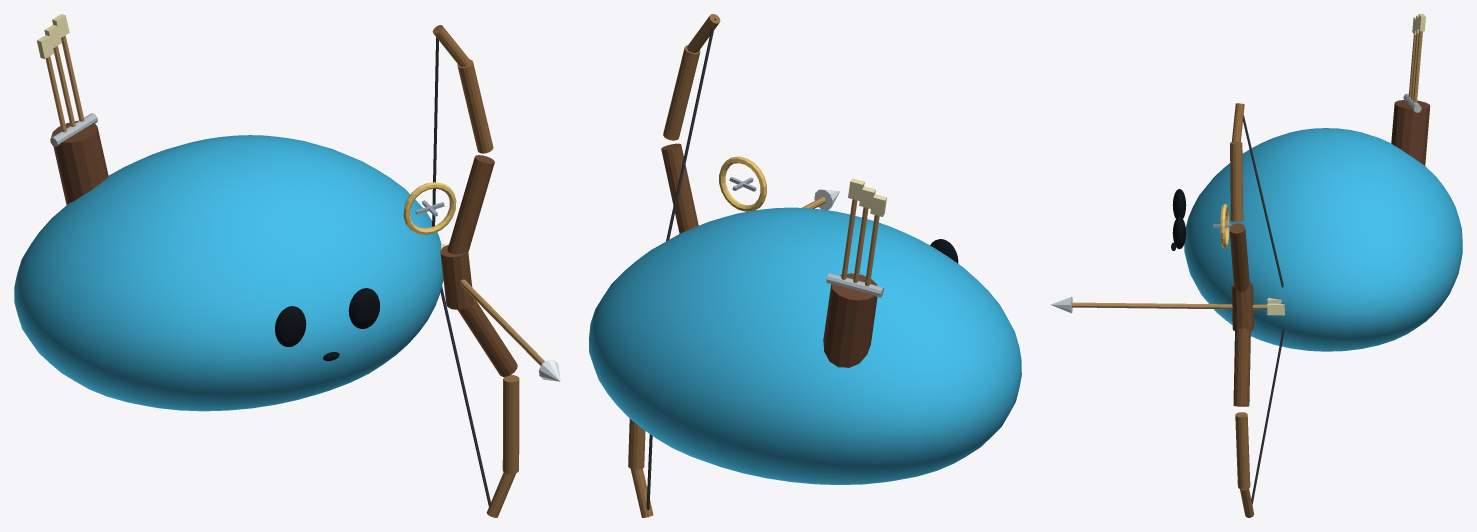
Rendered from sniper-slime.glb.
3 views of the same model, side by side, from view 1: azimuth 30°, elevation 25°; view 2: azimuth 150°, elevation 25°; view 3: azimuth 270°, elevation 25° (orthographic). The views are drawn at different scales.
Visible parts, largest first — view 1: Body, Sniper_QuiverBody, SniperBow_UpperInner, SniperBow_LowerInner, SniperBow_LowerOuter, SniperBow_Grip, SniperBow_UpperOuter, SniperSight_Ring, Eye_L, Eye_R, Sniper_ArrowShaft, SniperBow_StringLower (+2 smaller); view 2: Body, Sniper_QuiverBody, SniperBow_UpperInner, SniperBow_UpperOuter, SniperSight_Ring, SniperBow_StringUpper, SniperBow_LowerOuter, SniperBow_LowerTip, Sniper_QuiverRim, SniperBow_UpperTip; view 3: Body, Sniper_QuiverBody, SniperBow_LowerInner, SniperBow_UpperInner, SniperBow_UpperOuter, SniperBow_LowerOuter, Sniper_ArrowShaft, SniperBow_Grip, SniperBow_StringLower, SniperBow_StringUpper.
Boxes of the visible parts, x1,y1,x2,y2 form: Body: [14, 135, 443, 411]; Sniper_QuiverBody: [51, 120, 108, 204]; SniperBow_UpperInner: [447, 155, 494, 254]; SniperBow_LowerInner: [458, 298, 517, 376]; SniperBow_LowerOuter: [502, 375, 519, 473]; SniperBow_Grip: [440, 244, 473, 309]; SniperBow_UpperOuter: [457, 59, 493, 153]; SniperSight_Ring: [403, 182, 456, 234]; Eye_L: [275, 306, 306, 347]; Eye_R: [348, 288, 380, 328]; Sniper_ArrowShaft: [459, 279, 545, 365]; SniperBow_StringLower: [440, 286, 490, 506]; Body: [589, 207, 1021, 484]; Sniper_QuiverBody: [823, 273, 877, 367]; SniperBow_UpperInner: [661, 143, 698, 233]; SniperBow_UpperOuter: [663, 45, 700, 140]; SniperSight_Ring: [719, 156, 766, 211]; SniperBow_StringUpper: [666, 18, 716, 241]; SniperBow_LowerOuter: [628, 419, 645, 469]; SniperBow_LowerTip: [630, 468, 653, 517]; Sniper_QuiverRim: [826, 273, 883, 297]; SniperBow_UpperTip: [687, 14, 720, 52]; Body: [1184, 128, 1462, 351]; Sniper_QuiverBody: [1391, 100, 1430, 165]; SniperBow_LowerInner: [1233, 328, 1250, 406]; SniperBow_UpperInner: [1229, 223, 1249, 291]; SniperBow_UpperOuter: [1230, 142, 1243, 221]; SniperBow_LowerOuter: [1235, 412, 1250, 489]; Sniper_ArrowShaft: [1071, 302, 1267, 309]; SniperBow_Grip: [1231, 282, 1253, 331]; SniperBow_StringLower: [1251, 329, 1284, 504]; SniperBow_StringUpper: [1243, 115, 1283, 287].
Size of the model in its own units: 2.58 by 2.97 by 2.83.
